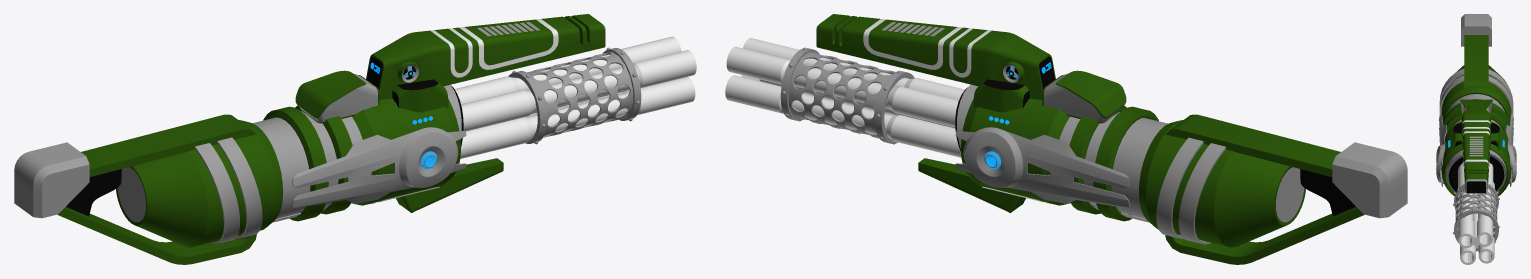
Rendered from Rapid Pickler.fbx.
The picture shows the model from 3 angles, left to right: view 1: azimuth 30°, elevation 25°; view 2: azimuth 150°, elevation 25°; view 3: azimuth 270°, elevation 25°; orthographic projection. The views are drawn at different scales.
Visible parts, largest first — view 1: Cylinder, Cylinder.005, Cube.002, Circle.002, Cube.007, Cube.008, Cylinder.007, Base, Cylinder.006, Cylinder.002, Cube.004, Cylinder.004 (+7 smaller); view 2: Cylinder, Cylinder.005, Cube.002, Circle.002, Cube.007, Cube.008, Cylinder.007, Base, Cylinder.006, Cylinder.002, Cube.004, Cylinder.004 (+8 smaller); view 3: Cube.002, Cylinder, Cube.007, Cylinder.005, Cylinder.002, Circle.002, Base, Cylinder.007, Cylinder.006, Cube.008, Cylinder.004, Circle.001 (+7 smaller).
Part boxes in pixels (bbox=[...]): Cylinder: bbox=[454, 36, 696, 158]; Cylinder.005: bbox=[116, 120, 282, 247]; Cube.002: bbox=[366, 14, 605, 99]; Circle.002: bbox=[292, 127, 466, 207]; Cube.007: bbox=[57, 114, 256, 264]; Cube.008: bbox=[14, 142, 89, 218]; Cylinder.007: bbox=[527, 52, 633, 137]; Base: bbox=[253, 84, 463, 218]; Cylinder.006: bbox=[195, 137, 262, 244]; Cylinder.002: bbox=[352, 98, 460, 205]; Cube.004: bbox=[295, 70, 379, 123]; Cylinder.004: bbox=[263, 105, 352, 221]; Cylinder: bbox=[725, 38, 964, 157]; Cylinder.005: bbox=[1139, 120, 1305, 247]; Cube.002: bbox=[816, 14, 1055, 99]; Circle.002: bbox=[955, 127, 1129, 207]; Cube.007: bbox=[1165, 114, 1364, 264]; Cube.008: bbox=[1332, 142, 1407, 218]; Cylinder.007: bbox=[788, 52, 895, 138]; Base: bbox=[955, 84, 1168, 218]; Cylinder.006: bbox=[1156, 137, 1225, 244]; Cylinder.002: bbox=[961, 98, 1069, 205]; Cube.004: bbox=[1042, 70, 1126, 123]; Cylinder.004: bbox=[1069, 105, 1158, 221]; Cube.002: bbox=[1462, 105, 1490, 193]; Cylinder: bbox=[1458, 162, 1494, 264]; Cube.007: bbox=[1464, 35, 1488, 88]; Cylinder.005: bbox=[1441, 65, 1511, 121]; Cylinder.002: bbox=[1441, 121, 1511, 196]; Circle.002: bbox=[1436, 114, 1516, 186]; Base: bbox=[1446, 94, 1506, 192]; Cylinder.007: bbox=[1455, 187, 1497, 246]; Cylinder.006: bbox=[1439, 69, 1513, 114]; Cube.008: bbox=[1461, 14, 1491, 46]; Cylinder.004: bbox=[1443, 99, 1509, 133]; Circle.001: bbox=[1454, 183, 1498, 251].
Size of the model in its own units: 2210 by 530 by 382.
